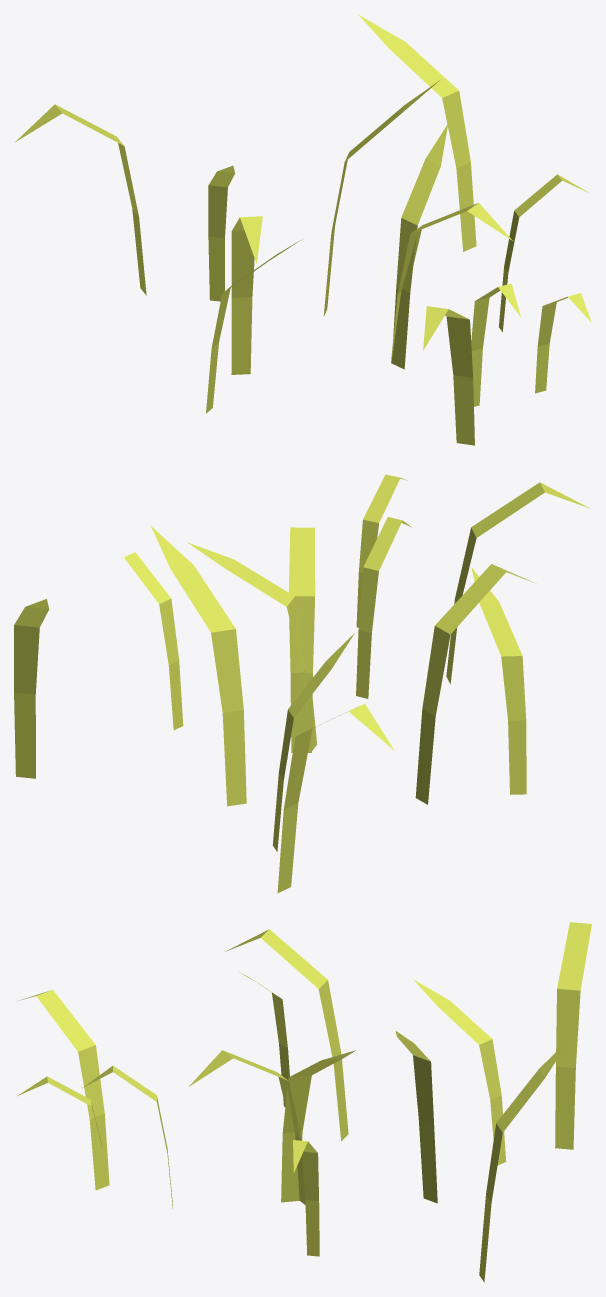
Rendered from SM_Grass_A.fbx.
3 renders of one model, top to bottom at view 1: azimuth 30°, elevation 25°; view 2: azimuth 150°, elevation 25°; view 3: azimuth 270°, elevation 25°, orthographic. The views are drawn at different scales.
Visible parts, largest first — view 1: SM_Grass_A; view 2: SM_Grass_A; view 3: SM_Grass_A.
Boxes of the visible parts, x1=… form: SM_Grass_A: x1=15, y1=14, x2=591, y2=445; SM_Grass_A: x1=14, y1=474, x2=590, y2=892; SM_Grass_A: x1=17, y1=922, x2=591, y2=1282.
Size of the model in its own units: 51.83 by 26.29 by 62.97.
